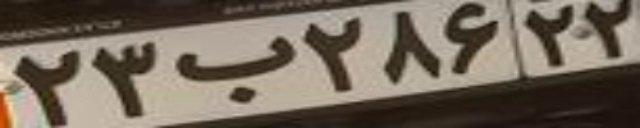2: (14, 51, 82, 127), (303, 15, 363, 91), (520, 2, 574, 66), (586, 0, 630, 58)
3: (90, 39, 158, 118)
6: (444, 2, 497, 74)
8: (380, 10, 440, 84)
be: (170, 35, 295, 103)
